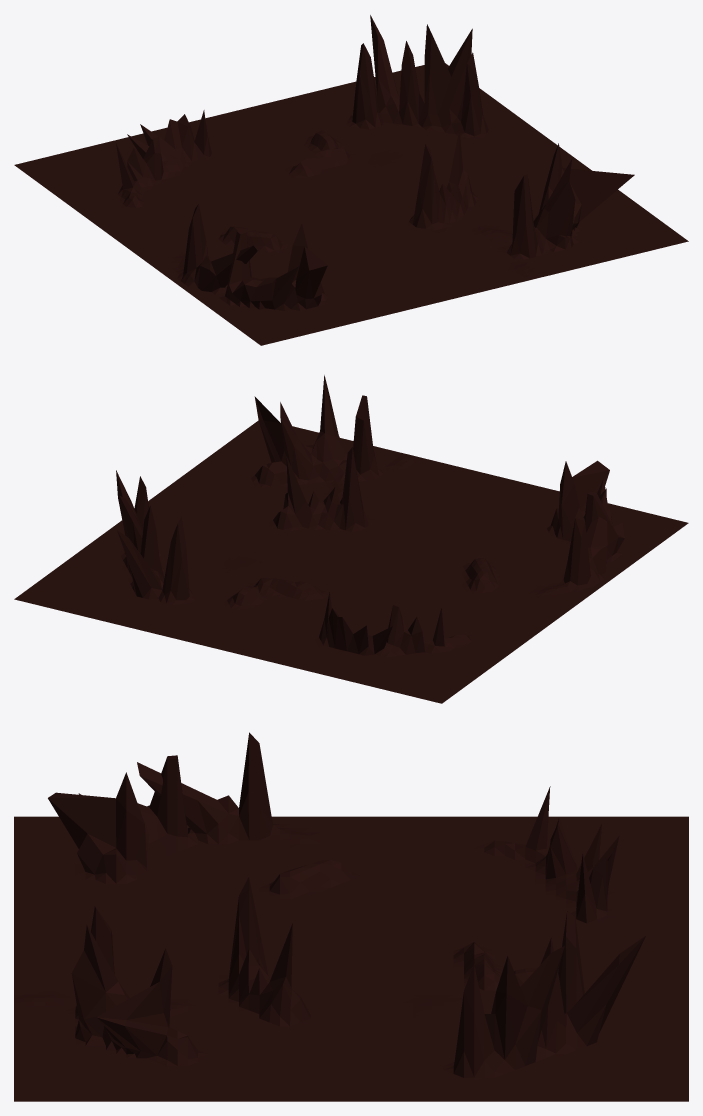
3 views of the same model, one above another, from view 1: azimuth 30°, elevation 25°; view 2: azimuth 150°, elevation 25°; view 3: azimuth 270°, elevation 25° (orthographic). The views are drawn at different scales.
Visible parts, largest first — view 1: Mountains; view 2: Mountains; view 3: Mountains.
Boxes of the visible parts, left/top/right/bottom form: Mountains: left=14, top=15, right=688, bottom=345; Mountains: left=14, top=375, right=688, bottom=703; Mountains: left=14, top=732, right=688, bottom=1101.
Bounding box in the file's own units: 2 × 2 × 0.4013.
